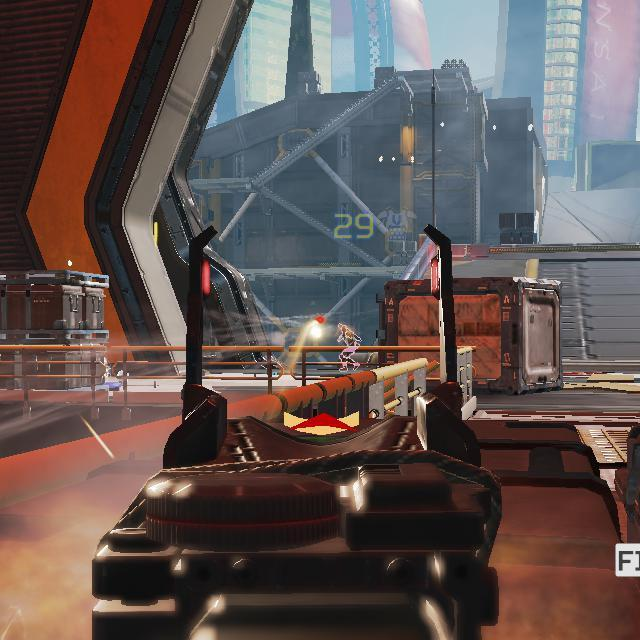avatar: (336, 322, 363, 373)
